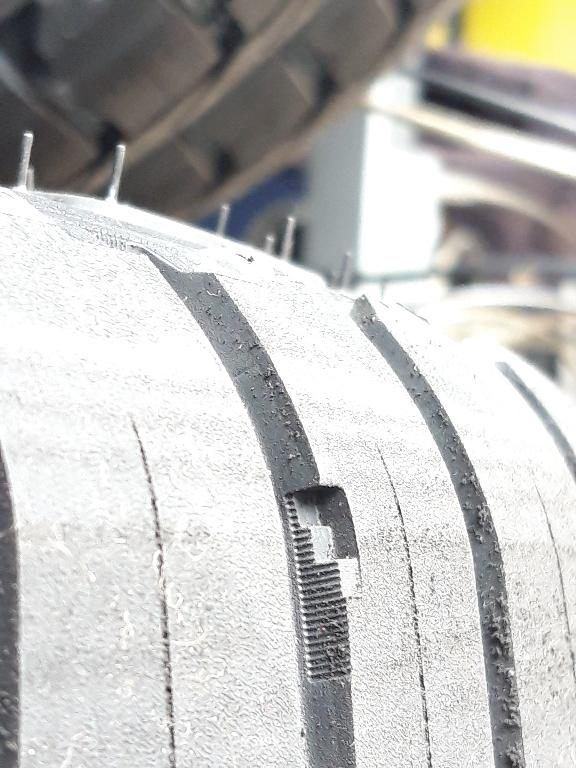temoin:50: (274, 476, 373, 610)
